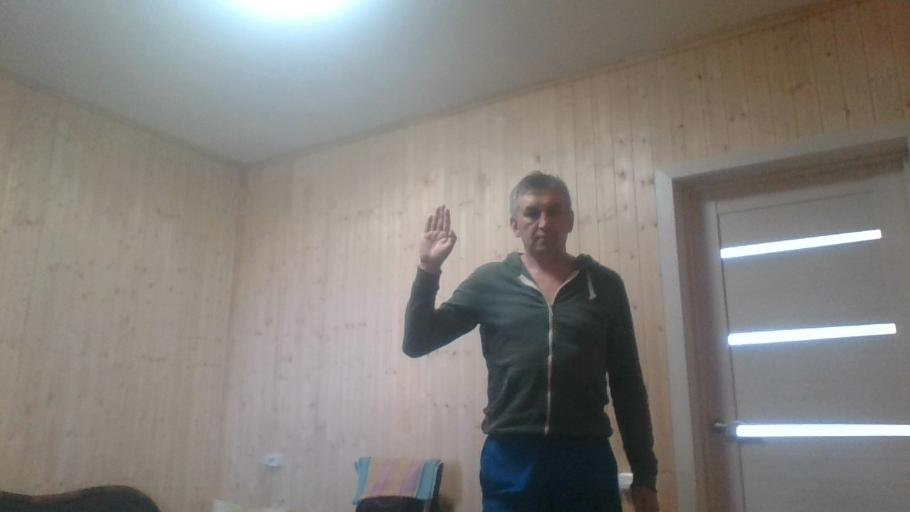stop: (417, 201, 459, 270)
